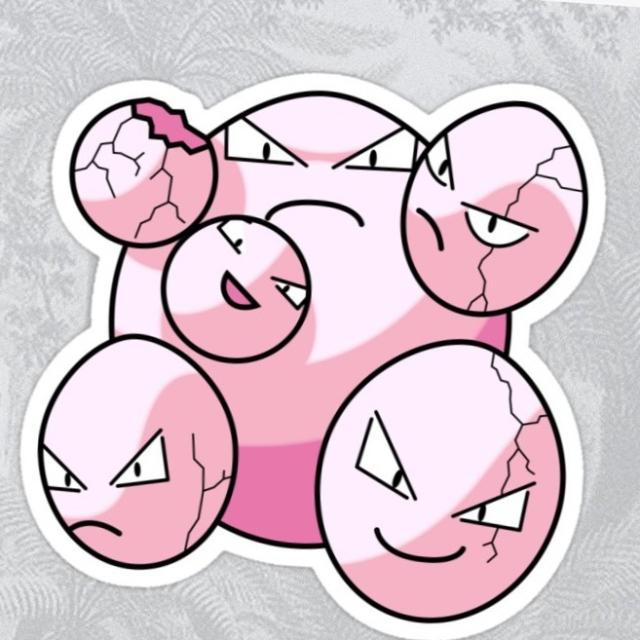Exeggcute: (42, 87, 584, 600)
